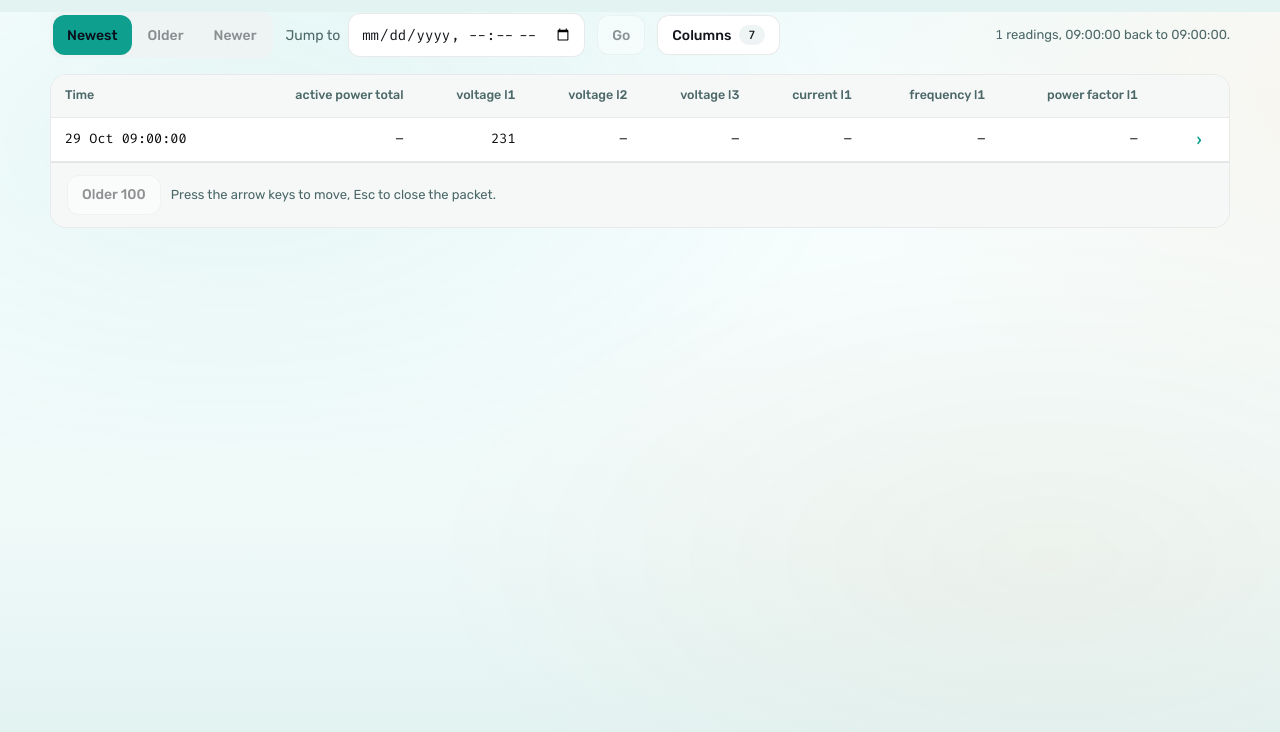
Scenario: ReadingsTab › R5/RR14 shows the meter message as sent
The width and height of the screenshot is (1280, 732).
What coordinates should you click on to do the following:
click the button named "Open packet"
I would click on:
 (1199, 139)
Its box is [1183,121,1215,157].
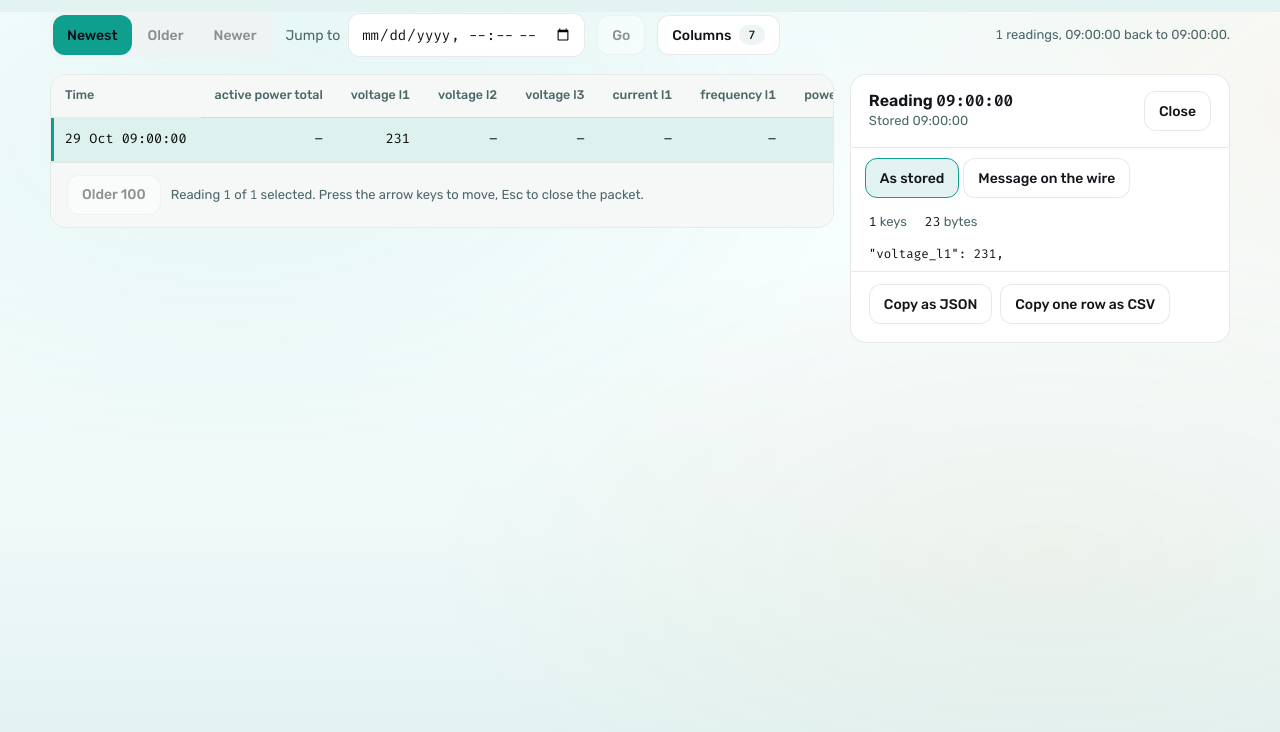
Expected: the text "\"voltage_l1\"" is shown, [869,246,959,262]
What coordinates should you click on to do the following:
click the button "Message on the wire"
I would click on:
 (1047, 178)
Its box is [963,158,1130,198].
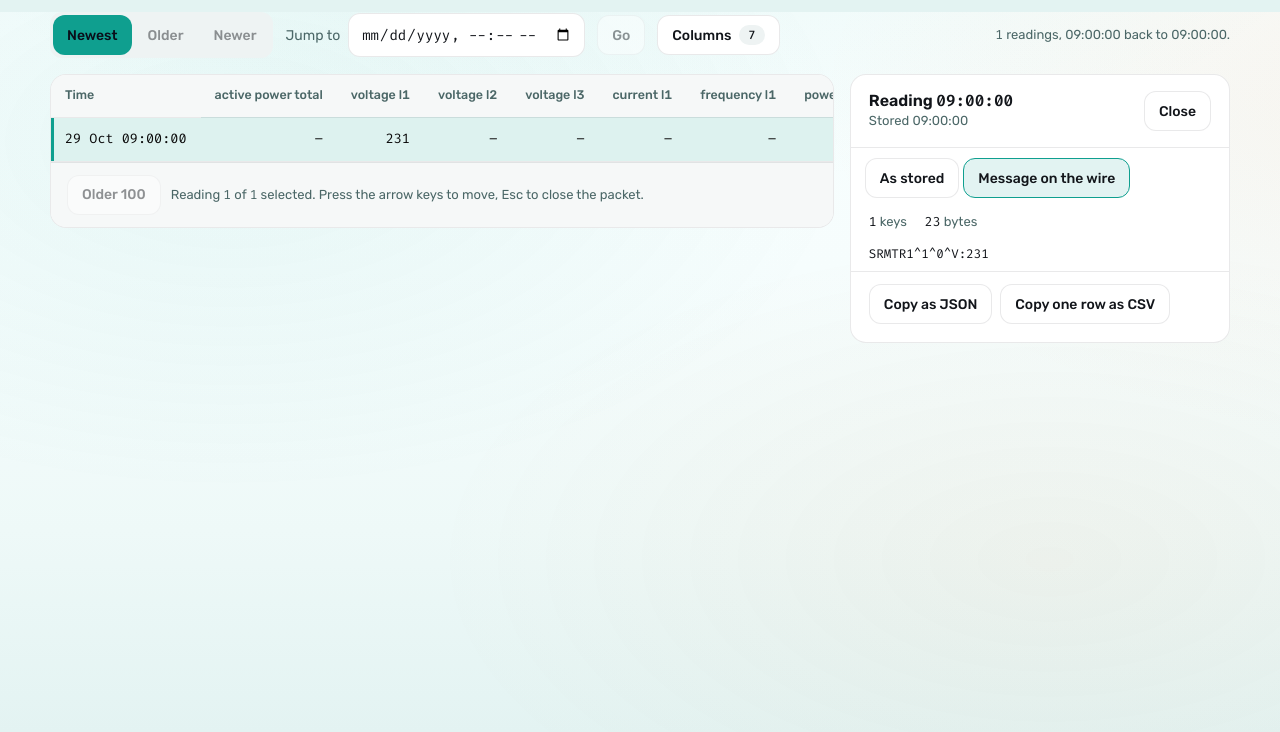
Expected: the text "SRMTR1^1^0^V:231" is shown, [869,246,989,262]
